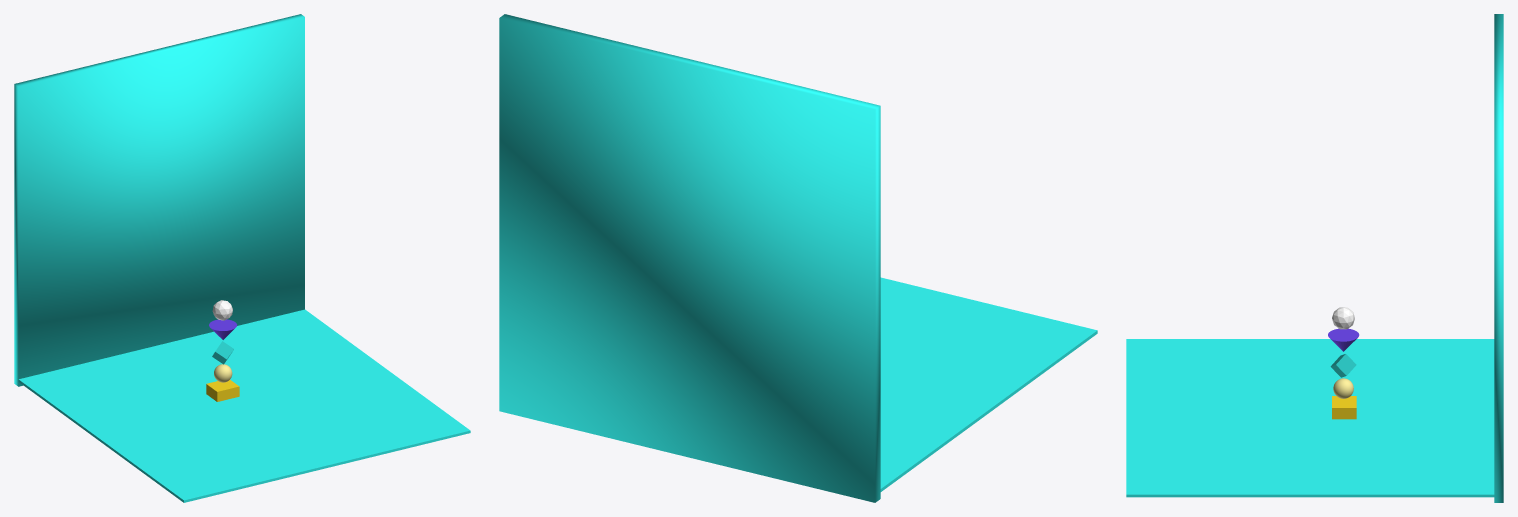
Rendered from areal-AirRealhome.fbx.
3 renders of one model, left to right at view 1: azimuth 30°, elevation 25°; view 2: azimuth 150°, elevation 25°; view 3: azimuth 270°, elevation 25°, orthographic. The views are drawn at different scales.
Parts seen in each view (by area): view 1: Cube.010, Cube.002, Icosphere; view 2: Cube.010, Cube.002; view 3: Cube.002, Cube.010, Icosphere.
Part boxes in pixels (bbox=[...]): Cube.010: bbox=[14, 14, 304, 386]; Cube.002: bbox=[18, 309, 470, 502]; Icosphere: bbox=[206, 300, 239, 401]; Cube.010: bbox=[499, 14, 880, 502]; Cube.002: bbox=[880, 277, 1097, 491]; Cube.002: bbox=[1126, 339, 1494, 497]; Cube.010: bbox=[1494, 14, 1503, 502]; Icosphere: bbox=[1328, 307, 1359, 419].
Bounding box in the file's own units: 1500 × 1500 × 1538.
